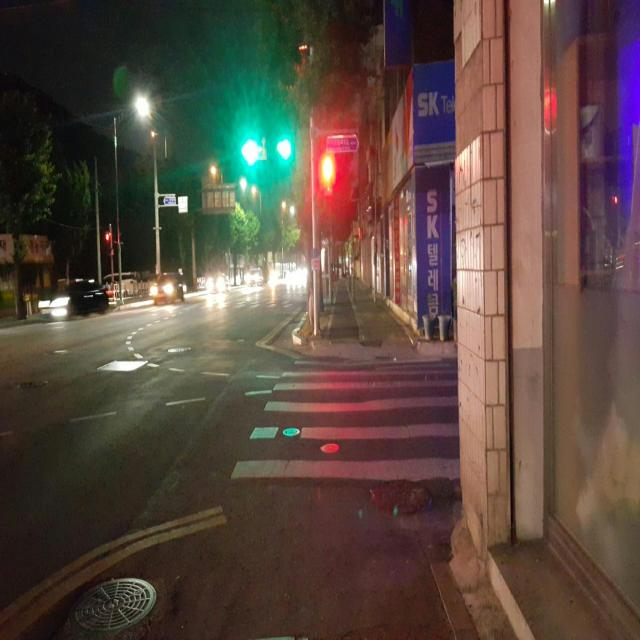횡단보도: (230, 366, 462, 482)
